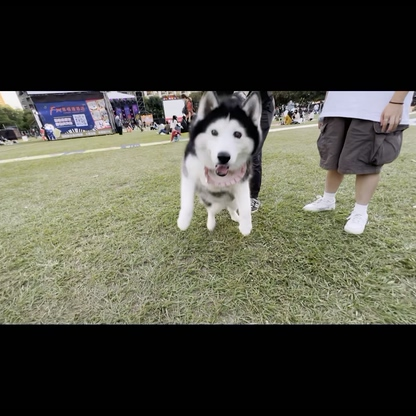husky: (173, 91, 264, 243)
